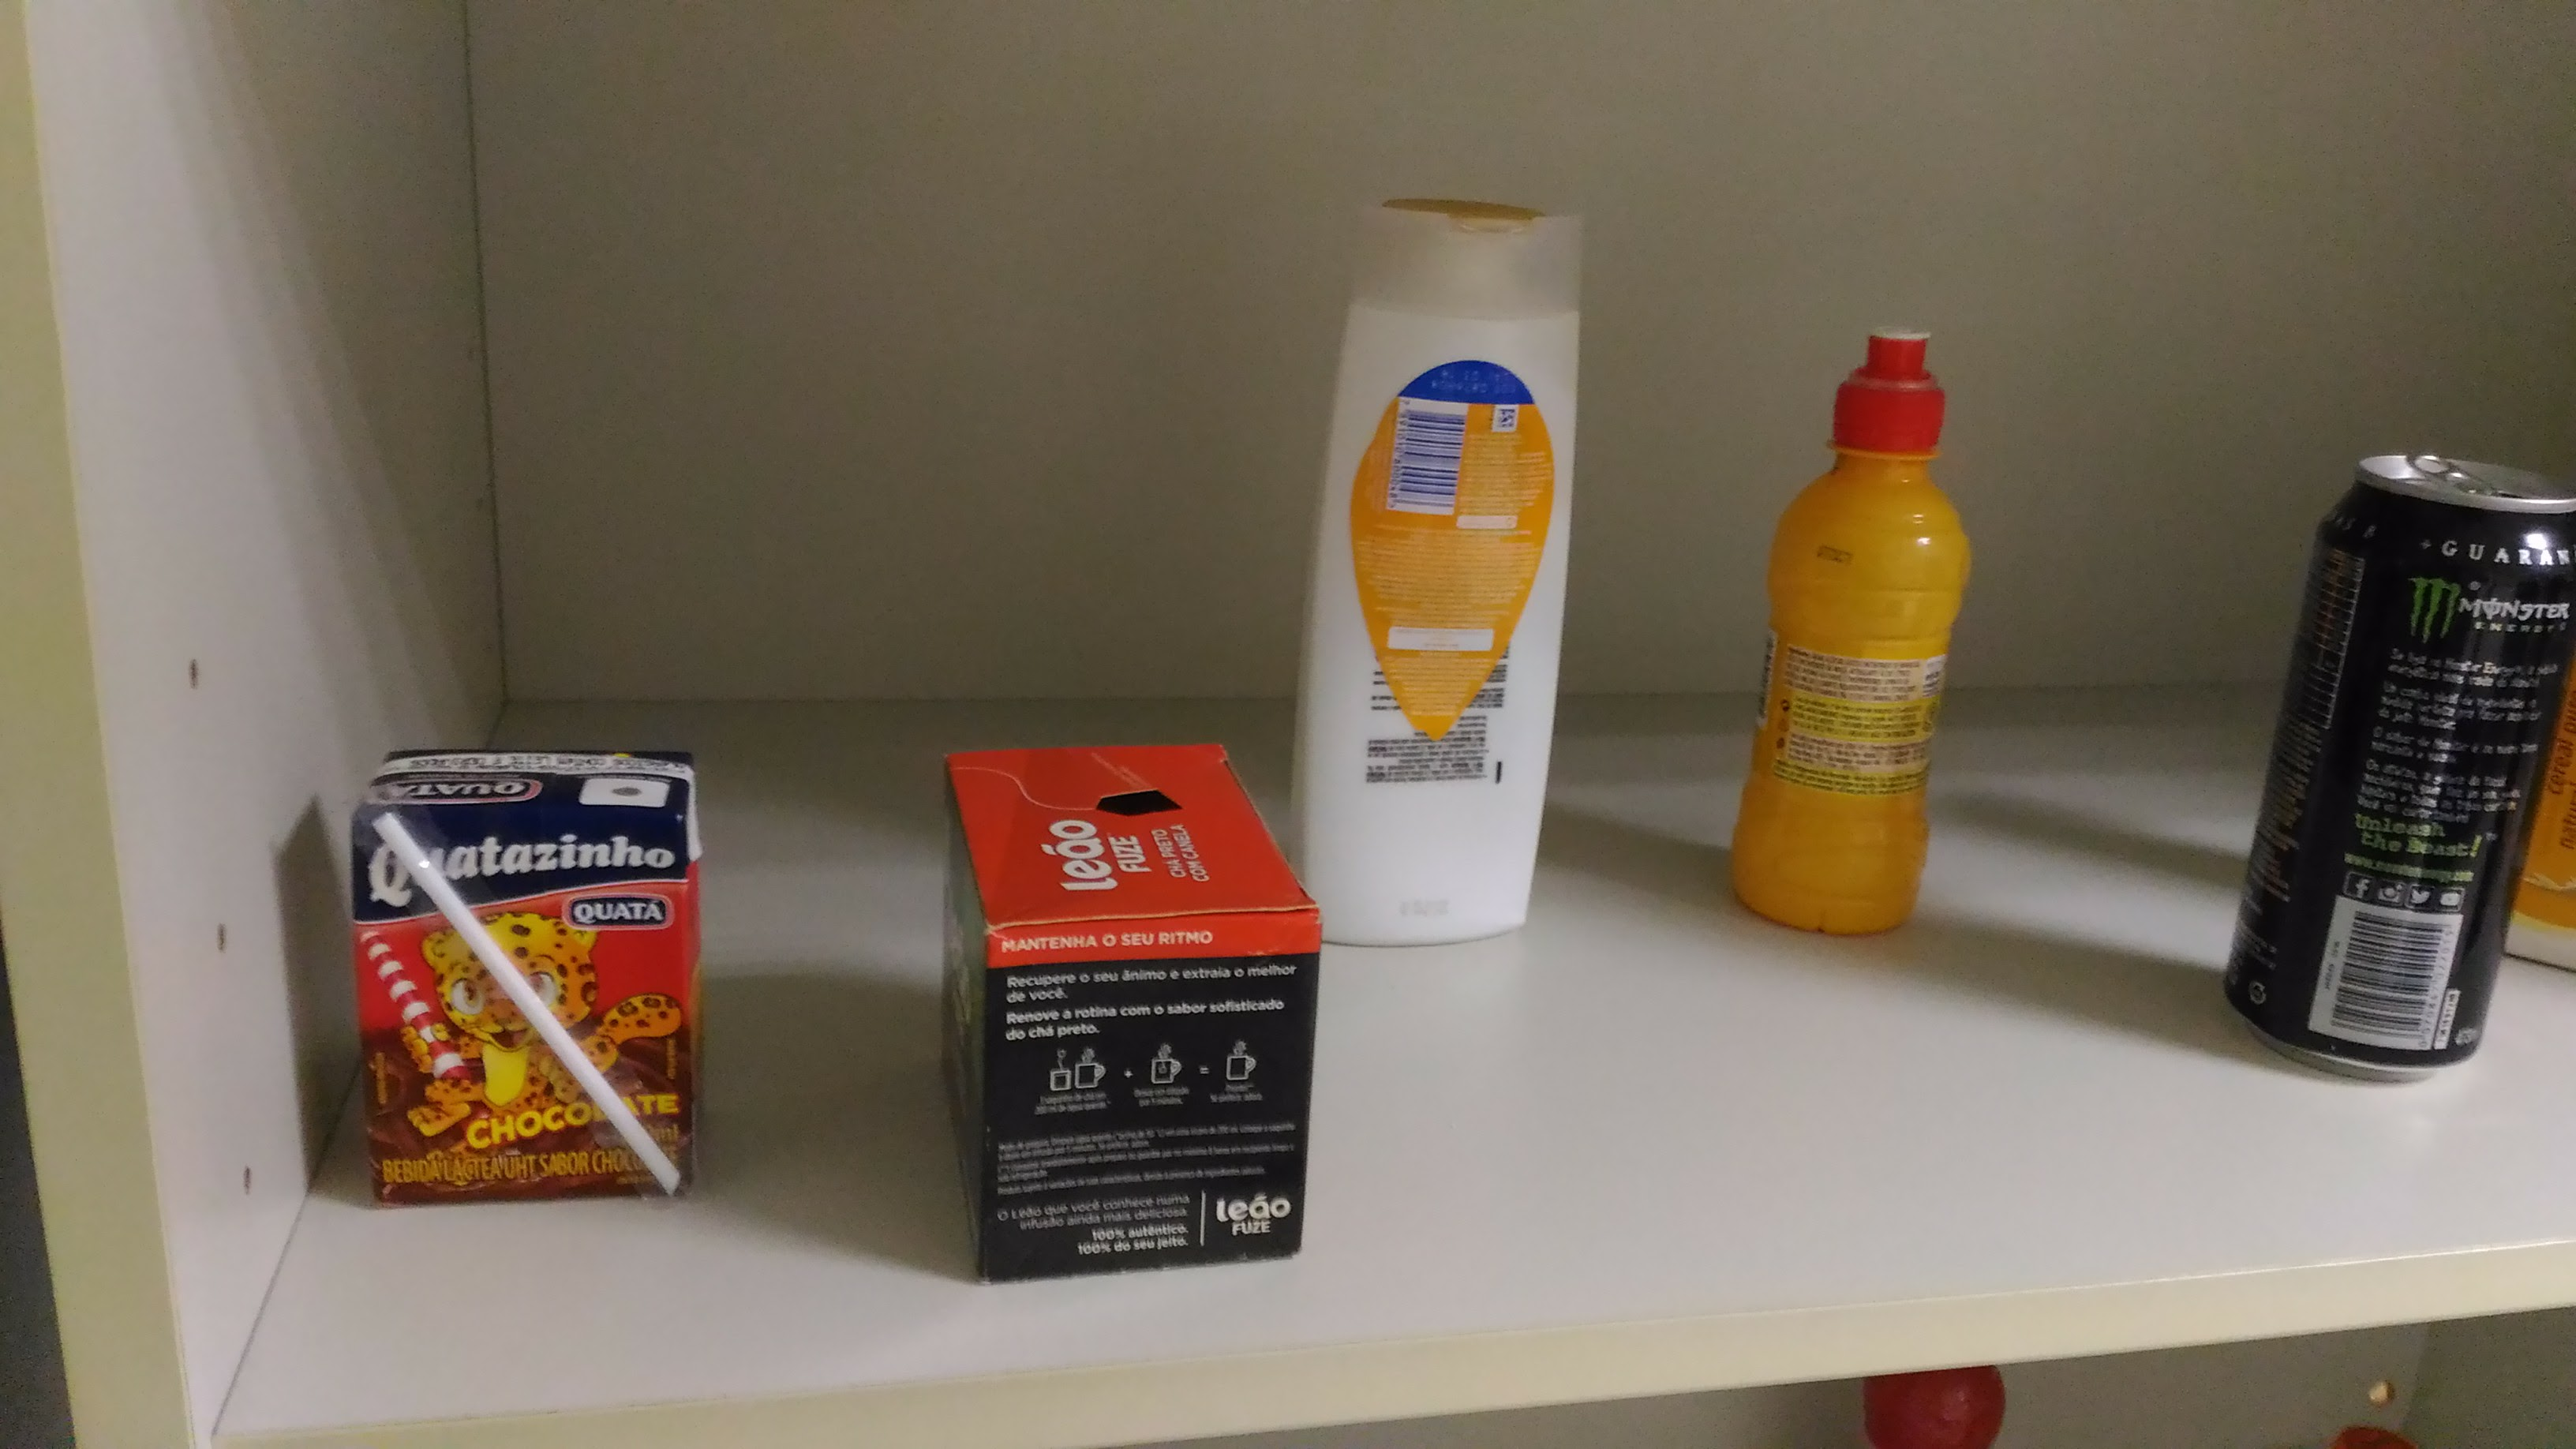chocolate_milk: (338, 732, 717, 1214)
monster: (2210, 446, 2576, 1097)
shampoo: (1283, 179, 1596, 957)
tea_box: (927, 734, 1325, 1284)
yellow_juice: (1725, 317, 1990, 939)
